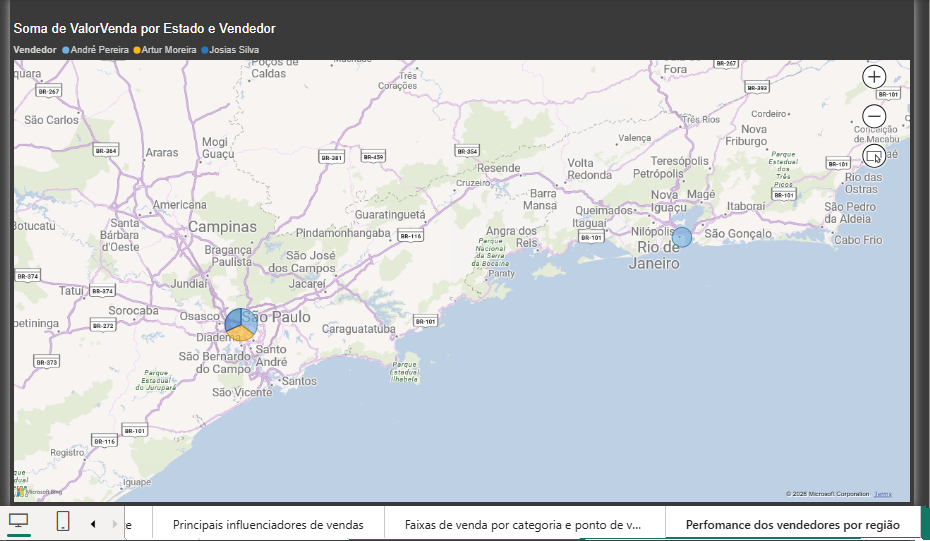

The dashboard page shown, as its layout file describes it:
{"tool":"powerbi","page":{"name":"Perfomance dos vendedores por região","canvas":[1280,720],"ordinal":4},"visuals":[{"type":"map","title":"Performance dos vendedores por região","fields":{"Category":["Vendas.Estado"],"Series":["Vendas.Vendedor"],"Size":["Sum(Vendas.ValorVenda)"]},"box":[0,32.6,1279.8,687.4],"z":0}]}

Visuals, with their boxes on the page's 1280x720 design canvas (x1, y1, x2, y2). These are canvas units, not pixel positions in the 930x541 screenshot, which may show the page scaled, cropped or inside an application window:
"Performance dos vendedores por região" map: (0, 33, 1280, 720)
